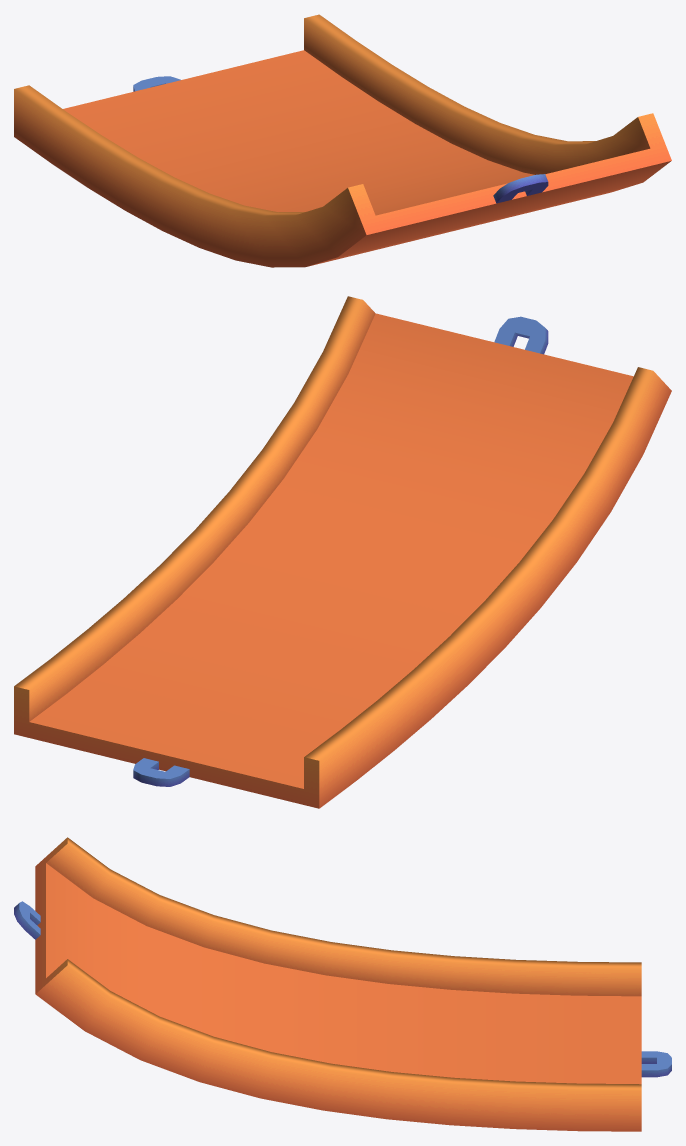
The model's file is track-wide-straight-hill-beginning.glb.
3 views of the same model, one above another, from view 1: azimuth 30°, elevation 25°; view 2: azimuth 150°, elevation 25°; view 3: azimuth 270°, elevation 25° (orthographic). The views are drawn at different scales.
Visible parts, largest first — view 1: track-wide-straight-hill-beginning; view 2: track-wide-straight-hill-beginning; view 3: track-wide-straight-hill-beginning.
Part boxes in pixels (x1,y1,x2,y2): track-wide-straight-hill-beginning: [14, 14, 671, 267]; track-wide-straight-hill-beginning: [14, 296, 671, 808]; track-wide-straight-hill-beginning: [14, 837, 671, 1131].
Size of the model in its own units: 6 by 3.64 by 13.02.
1 material, 1 textured.
